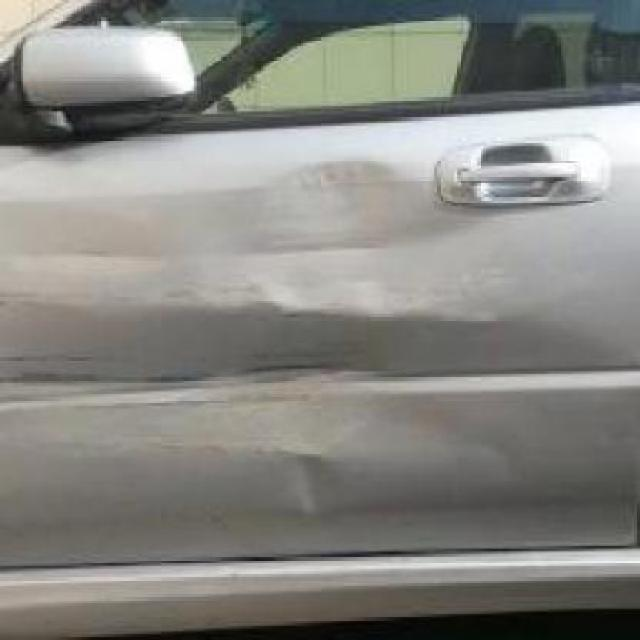dent-or-scratch: (2, 159, 550, 507)
